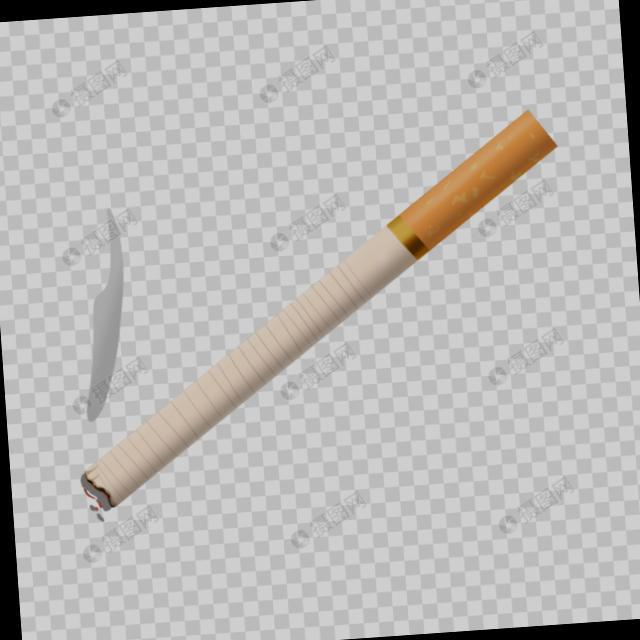cigarette: (42, 94, 595, 534)
